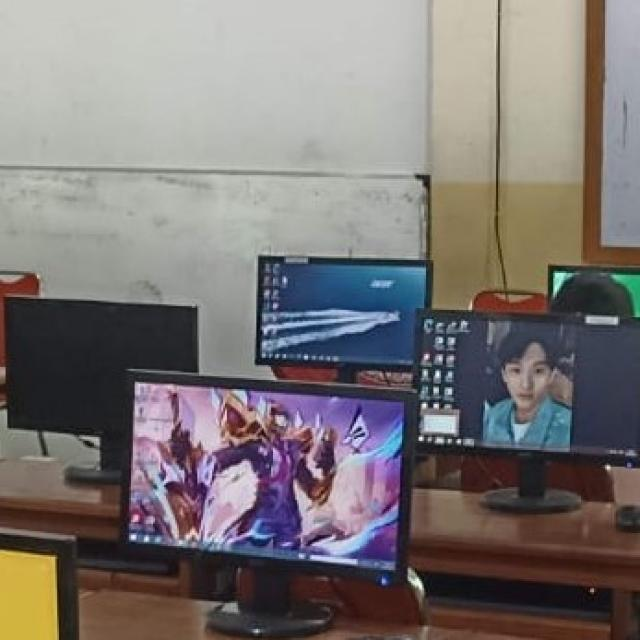offscreen: (9, 298, 198, 434)
onscreen: (131, 384, 402, 564), (418, 313, 639, 456), (258, 257, 430, 366)
